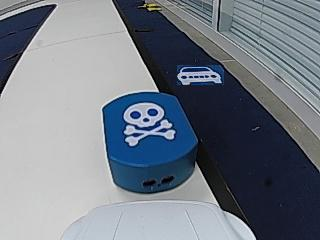danger: (122, 103, 171, 146)
